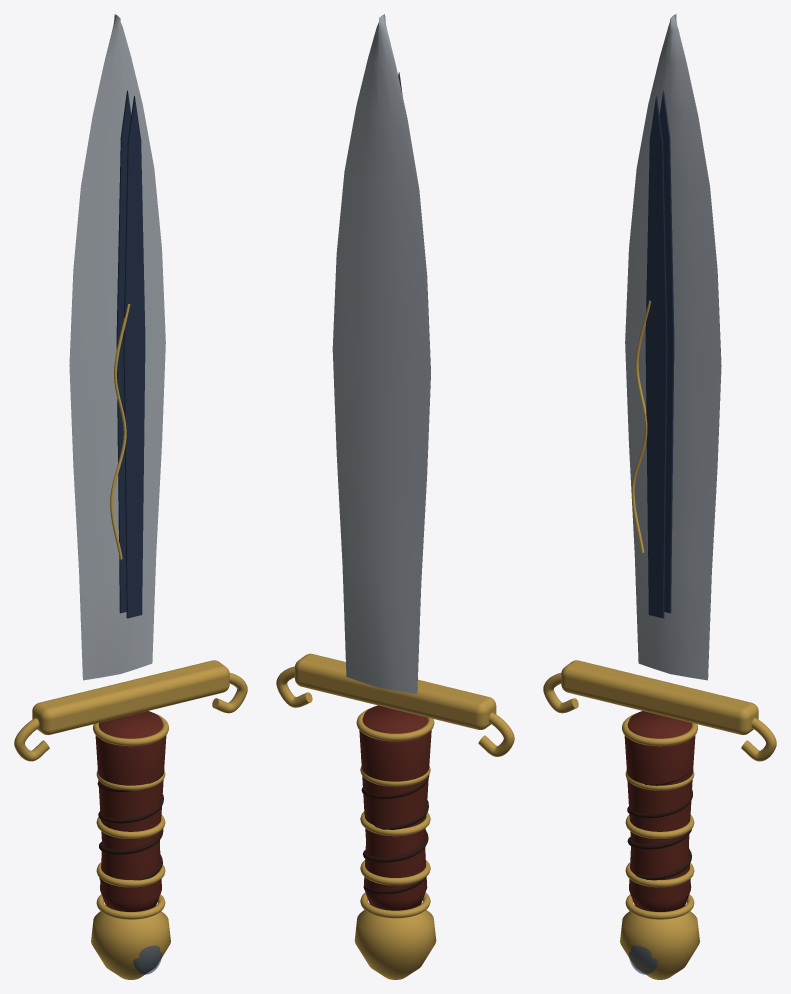
File: corrected-edited-stability.glb
3 views of the same model, side by side, from view 1: azimuth 30°, elevation 25°; view 2: azimuth 150°, elevation 25°; view 3: azimuth 330°, elevation 25° (orthographic). The views are drawn at different scales.
Visible parts, largest first — view 1: blade_core, grip_core, fuller_front, cross_guard, pommel, fuller_back, grip_wrap, blade_engraving, guard_scroll_left, grip_ring_1, grip_ring_5, guard_scroll_right (+3 smaller); view 2: blade_core, grip_core, cross_guard, pommel, grip_wrap, guard_scroll_left, grip_ring_1, grip_ring_5, guard_scroll_right, grip_ring_4, grip_ring_3; view 3: blade_core, grip_core, fuller_front, cross_guard, pommel, fuller_back, grip_wrap, blade_engraving, guard_scroll_right, grip_ring_1, grip_ring_5, guard_scroll_left (+3 smaller).
Part boxes in pixels (bbox=[...]): blade_core: bbox=[69, 14, 165, 680]; grip_core: bbox=[95, 711, 166, 911]; fuller_front: bbox=[123, 96, 145, 618]; cross_guard: bbox=[32, 660, 229, 734]; pommel: bbox=[91, 911, 170, 979]; fuller_back: bbox=[116, 90, 131, 613]; grip_wrap: bbox=[97, 769, 164, 885]; blade_engraving: bbox=[110, 304, 130, 559]; guard_scroll_left: bbox=[14, 718, 49, 761]; grip_ring_1: bbox=[93, 714, 168, 746]; grip_ring_5: bbox=[96, 894, 165, 919]; guard_scroll_right: bbox=[212, 673, 247, 713]; blade_core: bbox=[332, 14, 430, 693]; grip_core: bbox=[359, 705, 431, 910]; cross_guard: bbox=[294, 653, 496, 729]; pommel: bbox=[354, 909, 436, 979]; grip_wrap: bbox=[361, 758, 429, 894]; guard_scroll_left: bbox=[478, 712, 514, 756]; grip_ring_1: bbox=[356, 708, 434, 741]; grip_ring_5: bbox=[360, 892, 430, 918]; guard_scroll_right: bbox=[276, 666, 312, 707]; grip_ring_4: bbox=[360, 860, 430, 885]; grip_ring_3: bbox=[360, 811, 430, 836]; blade_core: bbox=[625, 14, 721, 680]; grip_core: bbox=[624, 711, 695, 911]; fuller_front: bbox=[645, 96, 667, 618]; cross_guard: bbox=[561, 660, 758, 734]; pommel: bbox=[620, 911, 699, 979]; fuller_back: bbox=[659, 90, 674, 613]; grip_wrap: bbox=[627, 764, 693, 898]; blade_engraving: bbox=[631, 300, 650, 552]; guard_scroll_right: bbox=[741, 718, 776, 761]; grip_ring_1: bbox=[622, 714, 697, 746]; grip_ring_5: bbox=[625, 894, 694, 919]; guard_scroll_left: bbox=[543, 673, 578, 713].
Bounding box in the file's own units: 0.1208 × 0.473 × 0.0361.
